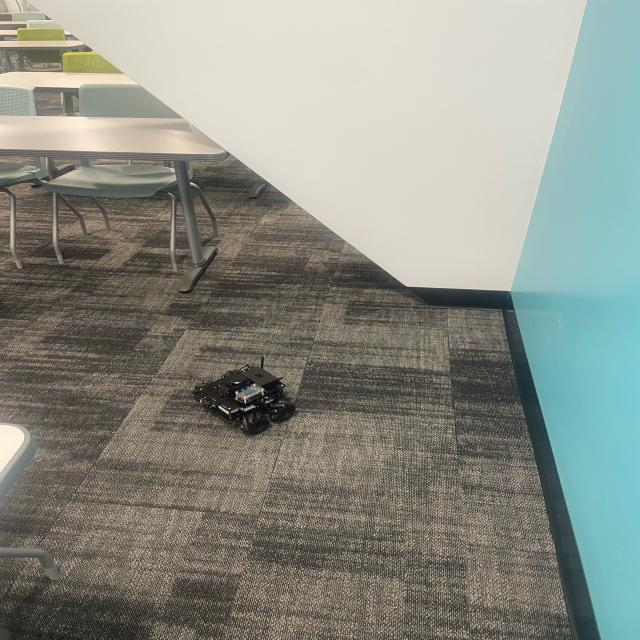ArduinoCar3: (190, 356, 303, 432)
